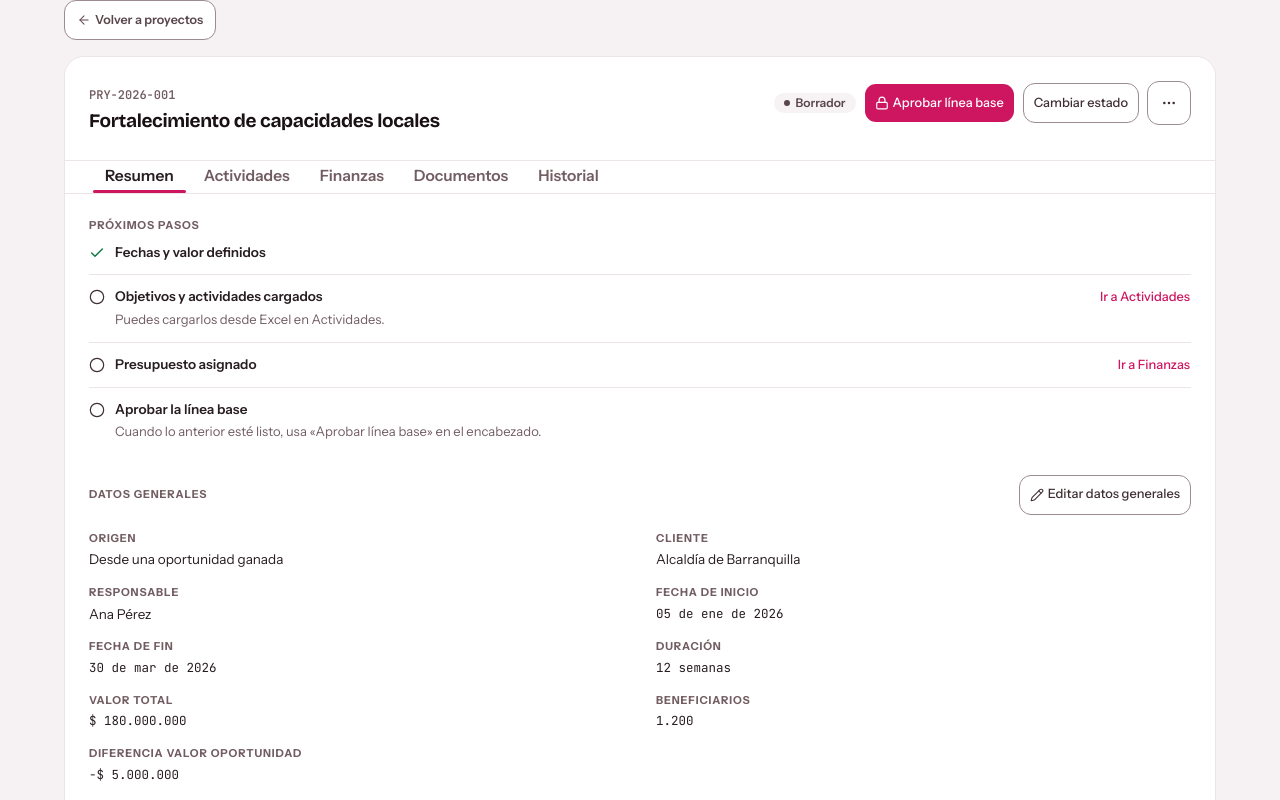
Test case: ProjectFicha (page) › explains the baseline is pending in the versions and modifications sections of a draft, without reading them
The image size is (1280, 800).
Click the tab "Historial". click: click(568, 176)
box: [525,164,612,189]
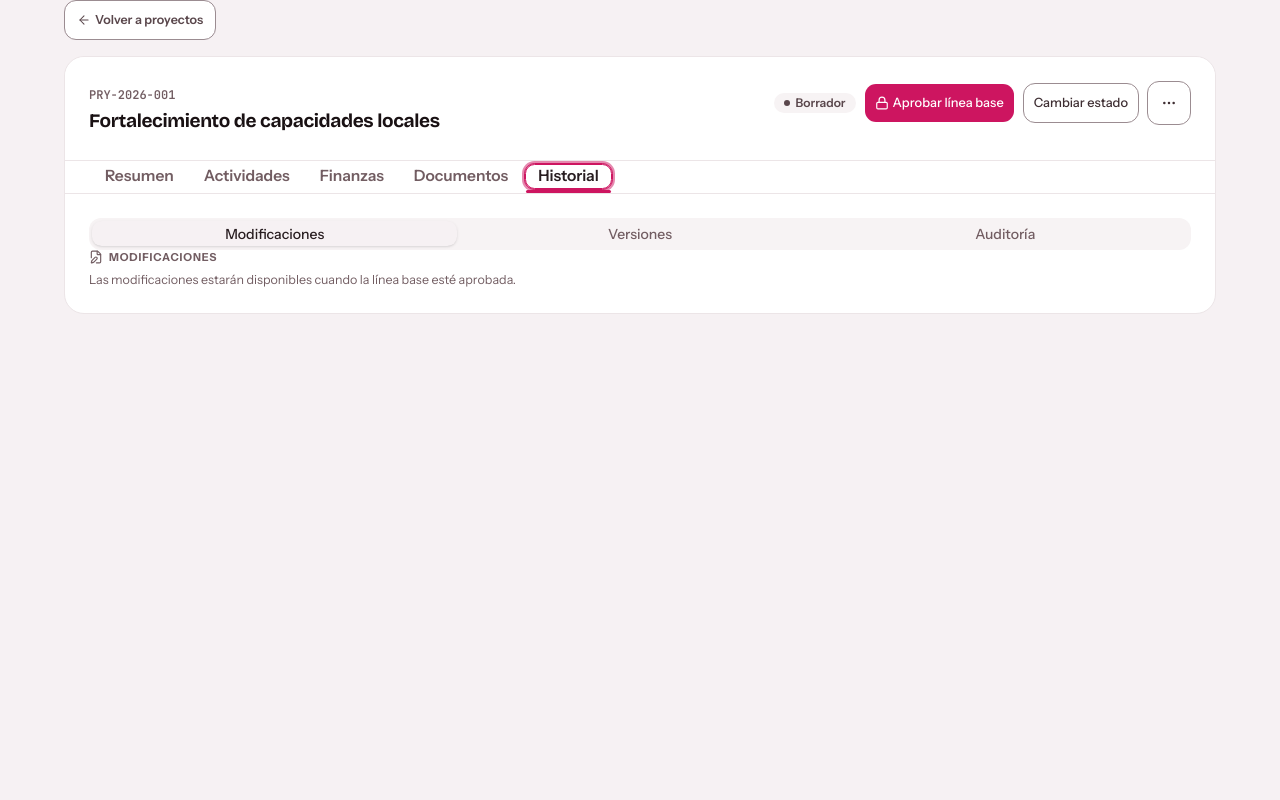
Expected: the text "línea base esté aprobada" is shown, [89,272,516,287]
Click the tab "Versiones". click: click(640, 234)
box: [457,221,823,246]
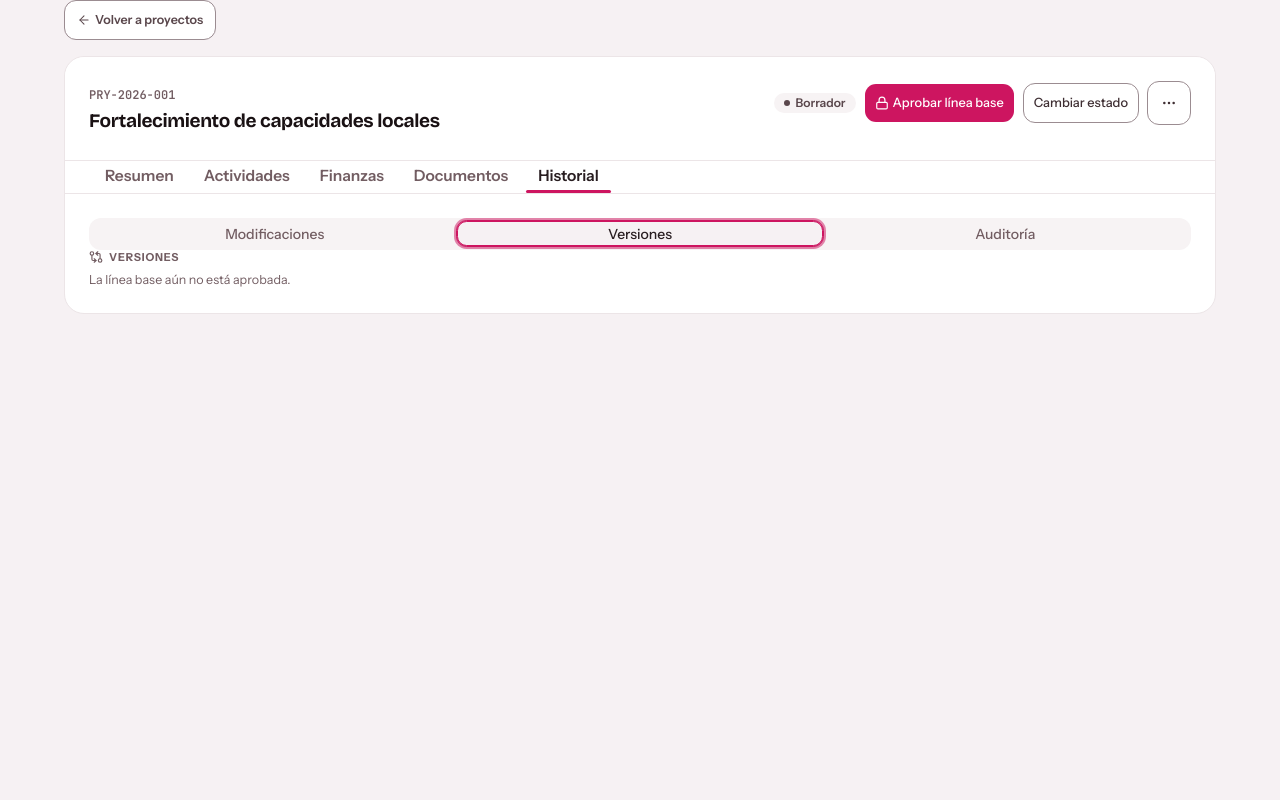
Expected: the text "La línea base aún no está aprobada." is shown, [89,272,290,287]
